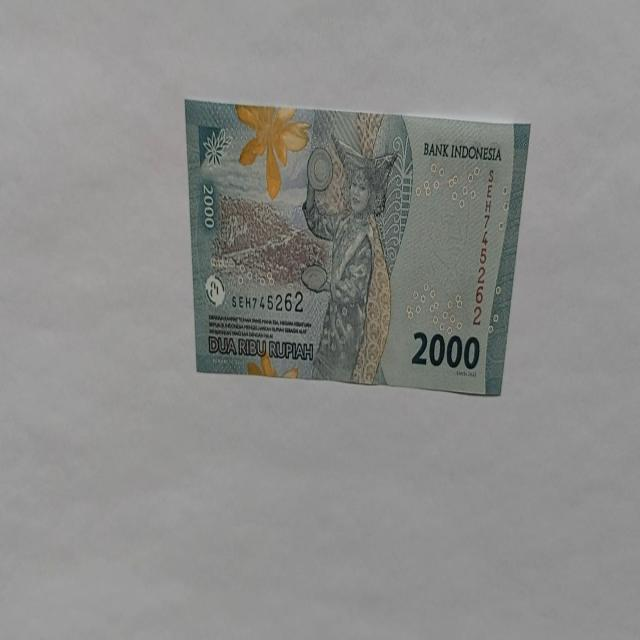dua ribu rupiah: (184, 100, 531, 396), (300, 132, 398, 384)
